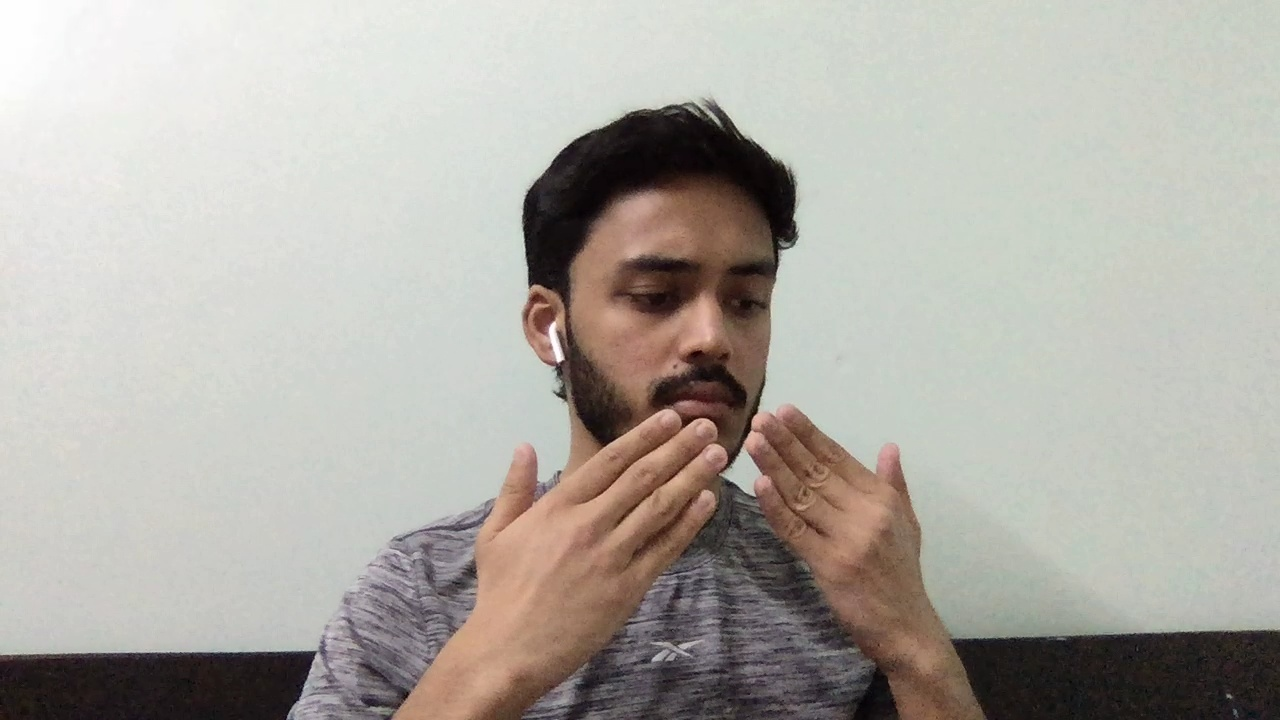Thank You: (445, 398, 972, 661)
